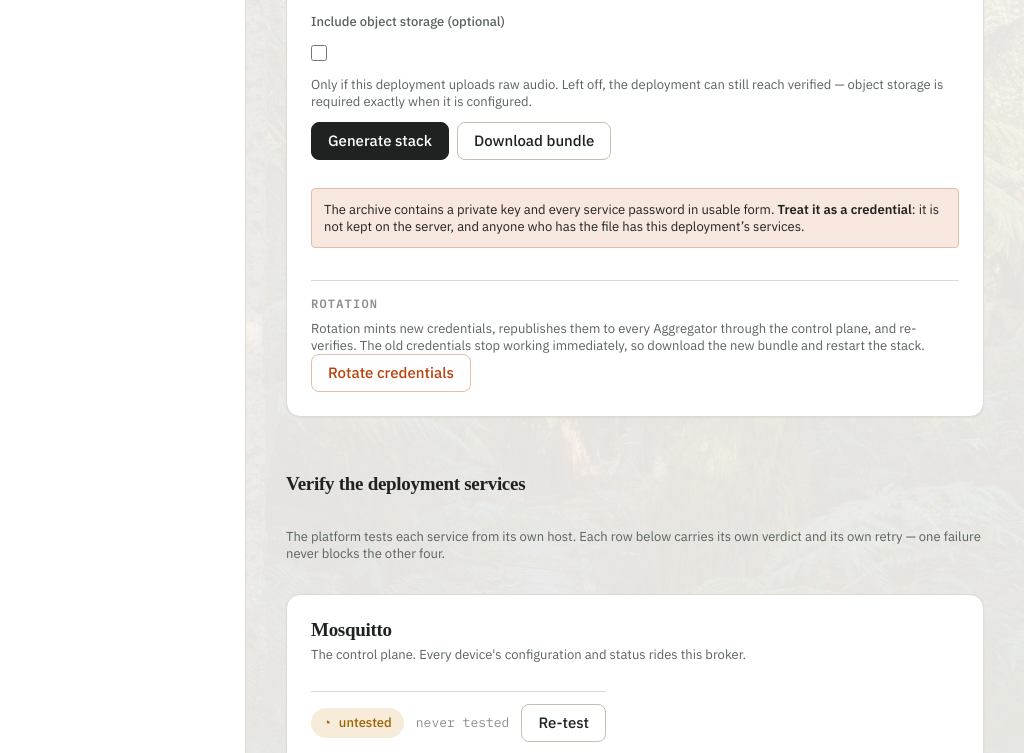
it: rotation › says a FAILED re-verification still published, and why
The image size is (1024, 753).
(page scrolled)
Step 1. Click the button with test id "stack-rotate" showing "Rotate credentials" → (391, 373), box [311,354,471,392]
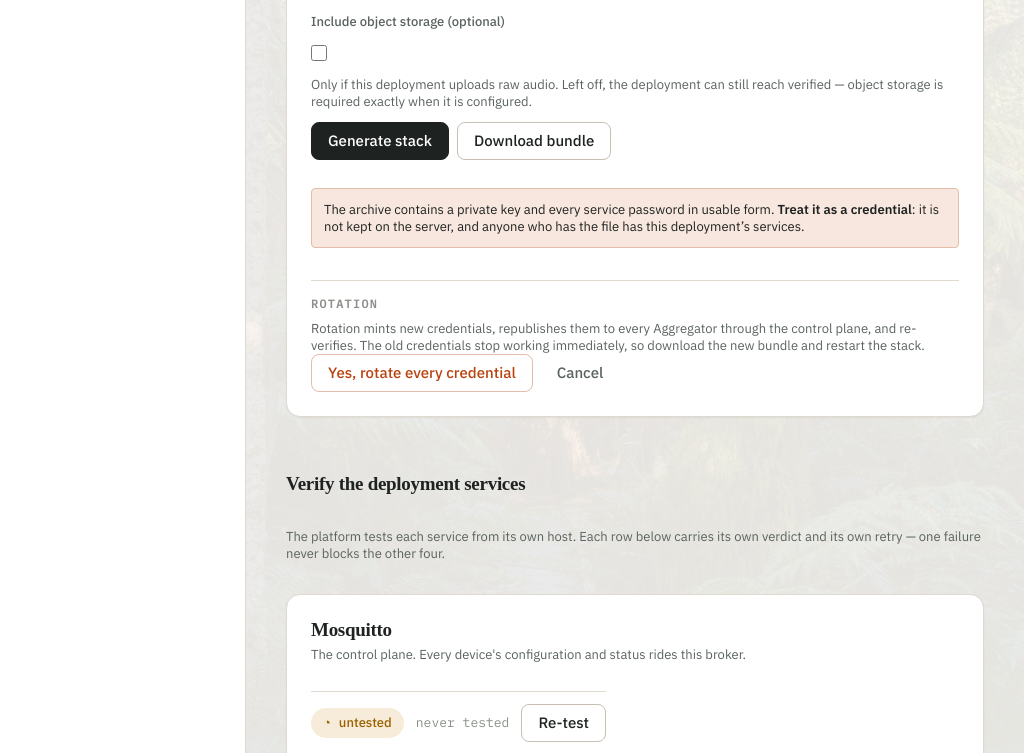
Step 2. Click the button "Yes, rotate every credential" → (422, 373), box [311,354,533,392]
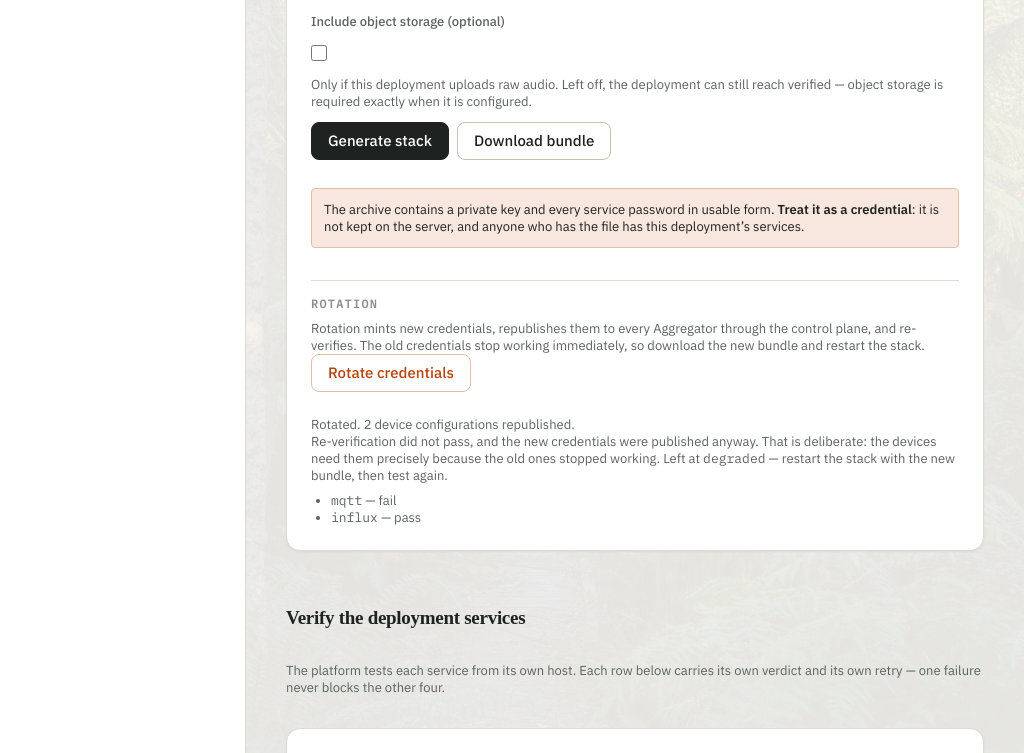
expect the element with test id "stack-rotation-unverified" shows "published anyway": met, box [311,433,936,467]
expect the element with test id "stack-rotation-unverified" shows "degraded": met, box [703,450,766,467]
expect the element with test id "stack-rotation-result" shows "2 device configurations republished": met, box [311,416,959,526]
